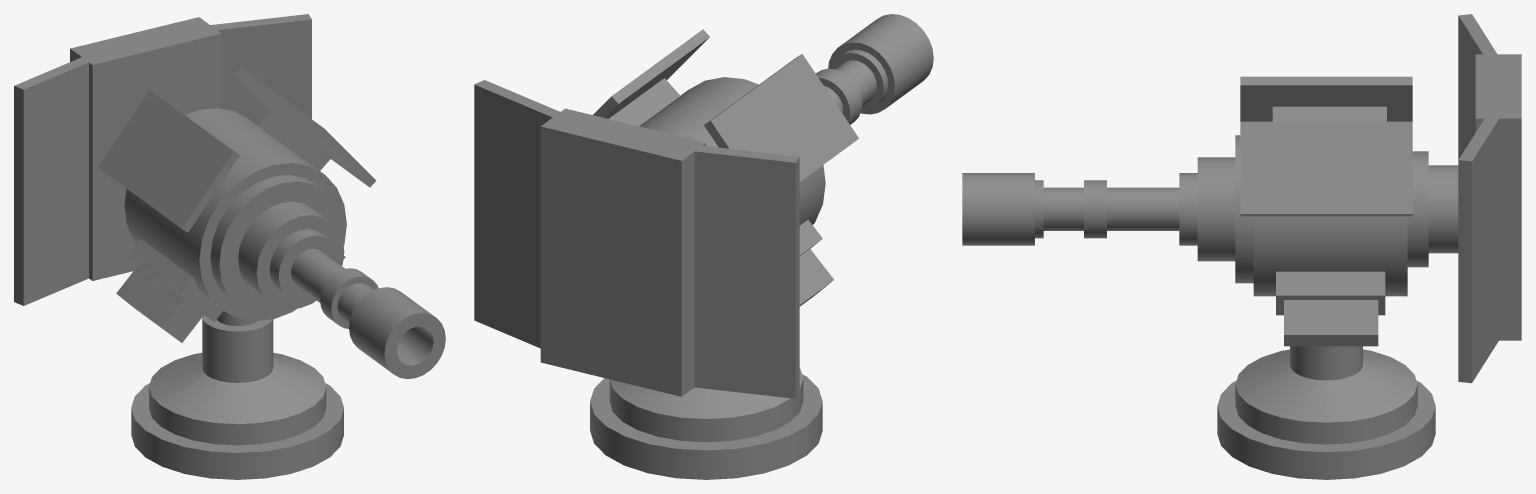
Rendered from turret.fbx.
3 renders of one model, left to right at view 1: azimuth 30°, elevation 25°; view 2: azimuth 150°, elevation 25°; view 3: azimuth 270°, elevation 25°, orthographic. The views are drawn at different scales.
Visible parts, largest first — view 1: turret; view 2: turret; view 3: turret.
Boxes of the visible parts, bbox=[...] form: turret: bbox=[14, 14, 445, 479]; turret: bbox=[474, 14, 933, 479]; turret: bbox=[962, 14, 1521, 479].
Size of the model in its own units: 475 by 515 by 761.
1 material, 1 textured.
